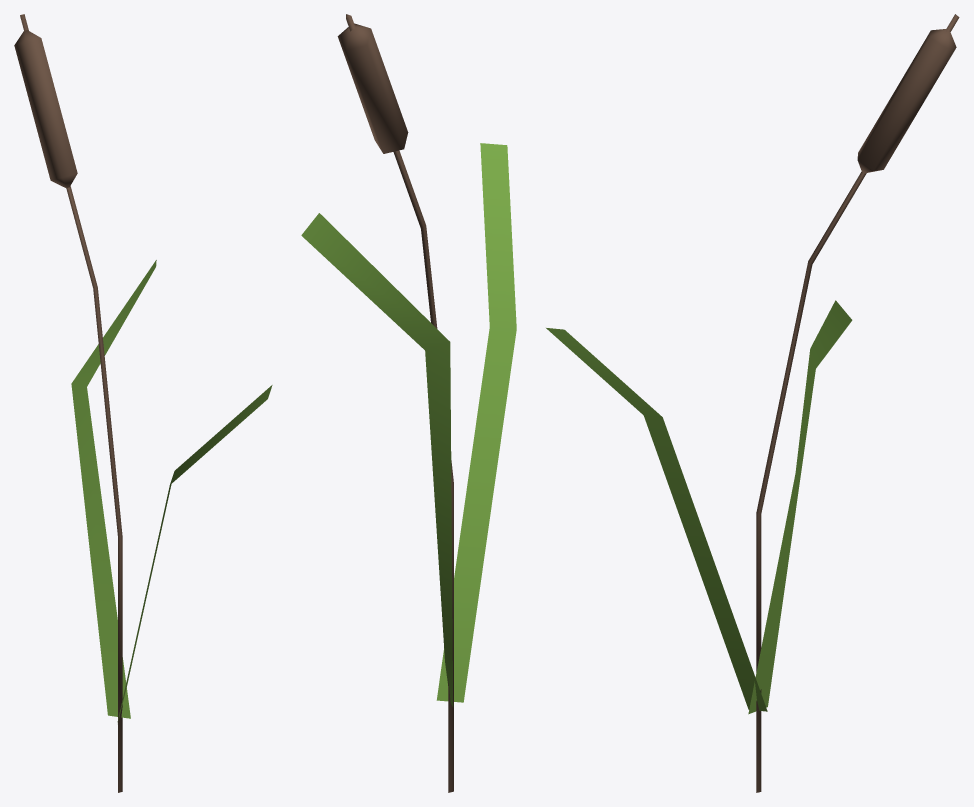
Rendered from Reed_1.fbx.
3 renders of one model, left to right at view 1: azimuth 30°, elevation 25°; view 2: azimuth 150°, elevation 25°; view 3: azimuth 270°, elevation 25°, orthographic. The views are drawn at different scales.
Visible parts, largest first — view 1: Reed 1; view 2: Reed 1; view 3: Reed 1.
Part boxes in pixels (<box>): Reed 1: <box>14,14,272,792</box>; Reed 1: <box>301,14,516,792</box>; Reed 1: <box>546,14,959,792</box>.
Size of the model in its own units: 31.4 by 205 by 99.56.
